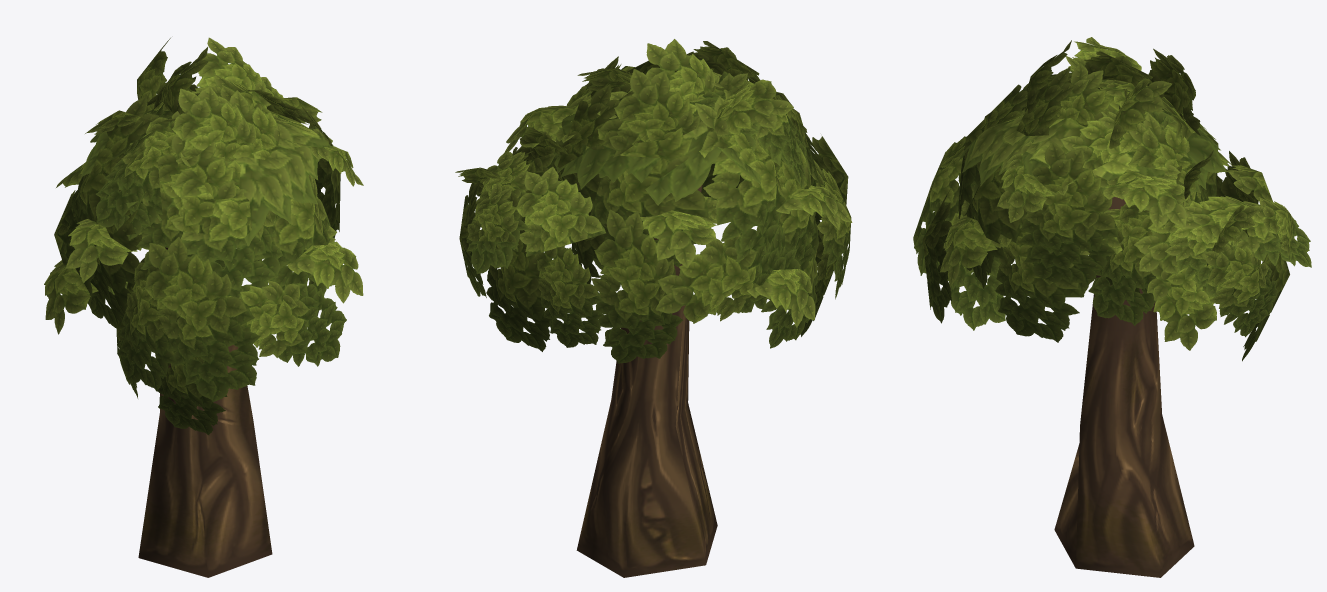
Rendered from tree_leafy_03.fbx.
The picture shows the model from 3 angles, left to right: view 1: azimuth 30°, elevation 25°; view 2: azimuth 150°, elevation 25°; view 3: azimuth 270°, elevation 25°; orthographic projection.
Visible parts, largest first — view 1: tree_leafy_03; view 2: tree_leafy_03; view 3: tree_leafy_03.
Part boxes in pixels (left/top/right/bottom): tree_leafy_03: left=44, top=37, right=363, bottom=577; tree_leafy_03: left=455, top=39, right=852, bottom=577; tree_leafy_03: left=913, top=37, right=1311, bottom=577.
Size of the model in its own units: 448 by 633 by 473.
